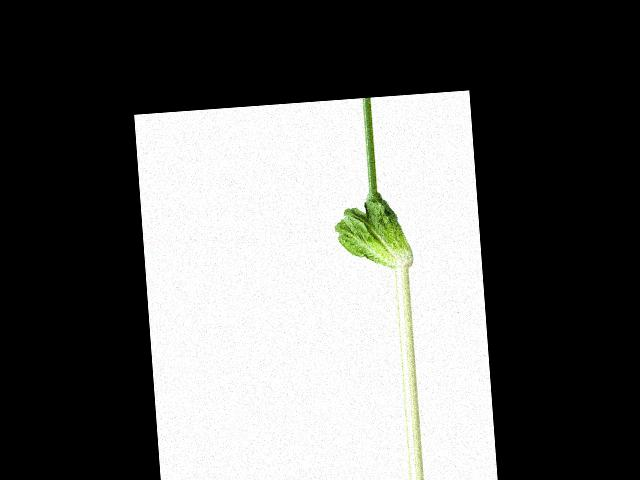lettuce: (331, 191, 414, 272)
